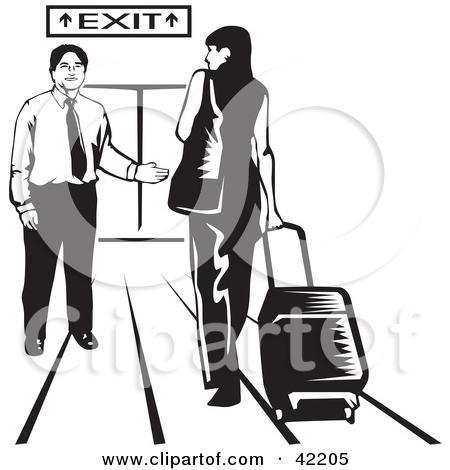person: (3, 40, 179, 355), (162, 24, 283, 403)
